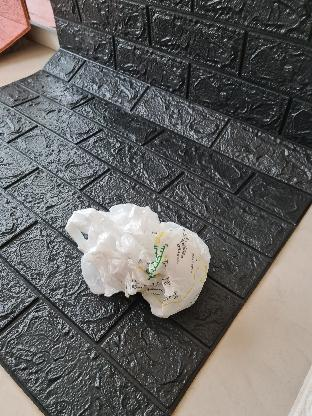Plastic Bag: (69, 204, 210, 320)
